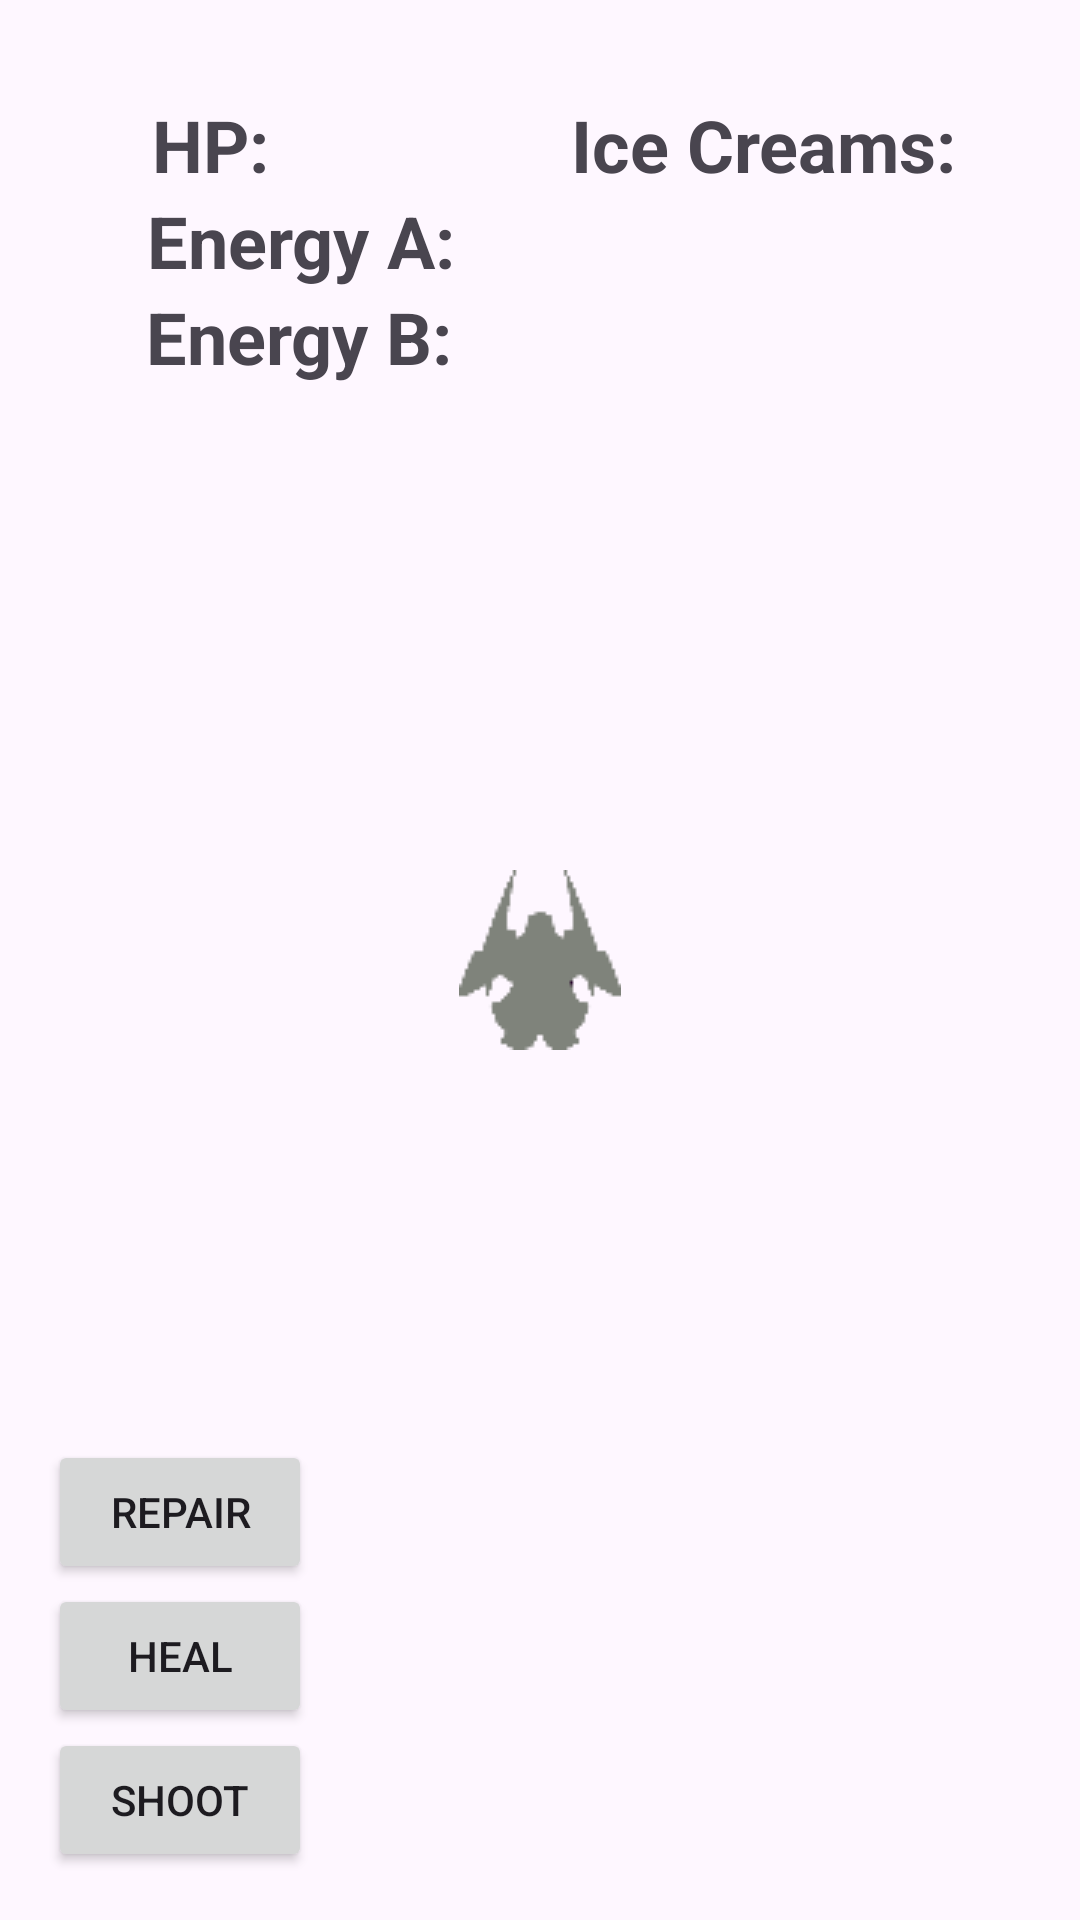

Point at icon controls on the screen. Image size 1080px x 1920px, points as (x,y).
smallship: (540,960)
